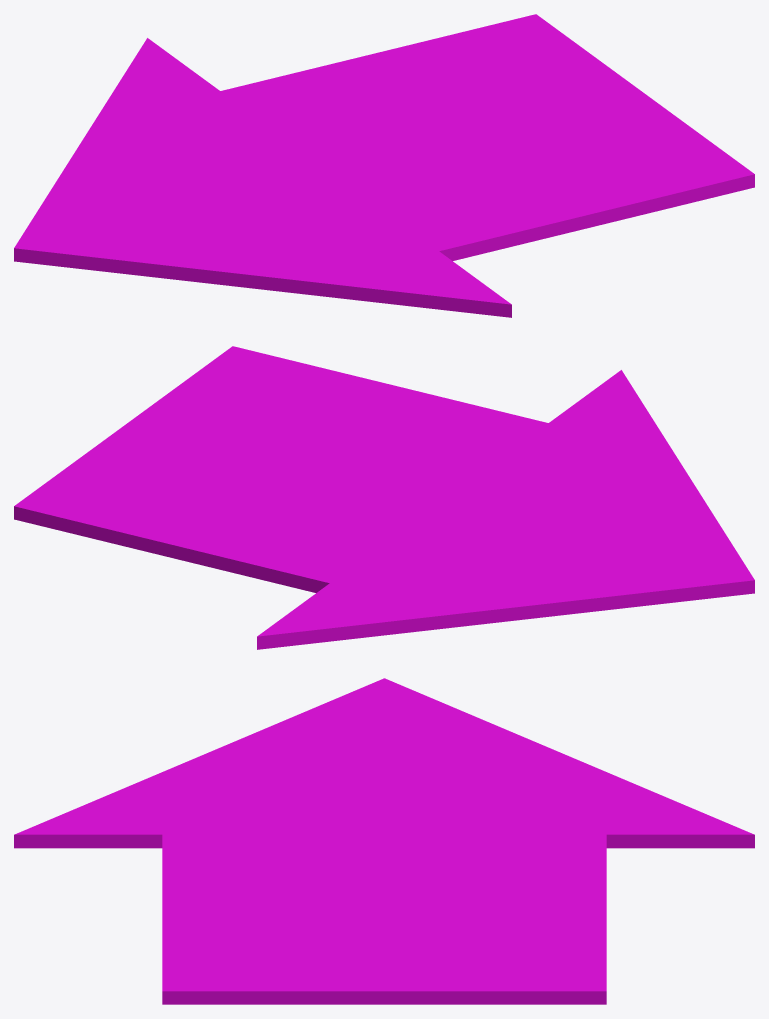
File: arrow.glb
3 views of the same model, one above another, from view 1: azimuth 30°, elevation 25°; view 2: azimuth 150°, elevation 25°; view 3: azimuth 270°, elevation 25° (orthographic).
Visible parts, largest first — view 1: Plane; view 2: Plane; view 3: Plane.
Boxes of the visible parts, <box> form: Plane: <box>14,14,754,317</box>; Plane: <box>14,346,754,649</box>; Plane: <box>14,678,754,1004</box>.
Bounding box in the file's own units: 0.1 × 0.002 × 0.1.
